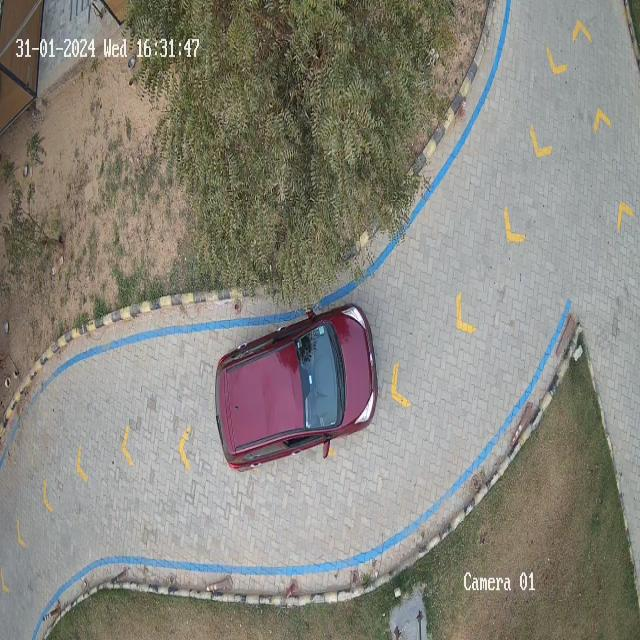car: (214, 305, 379, 472)
